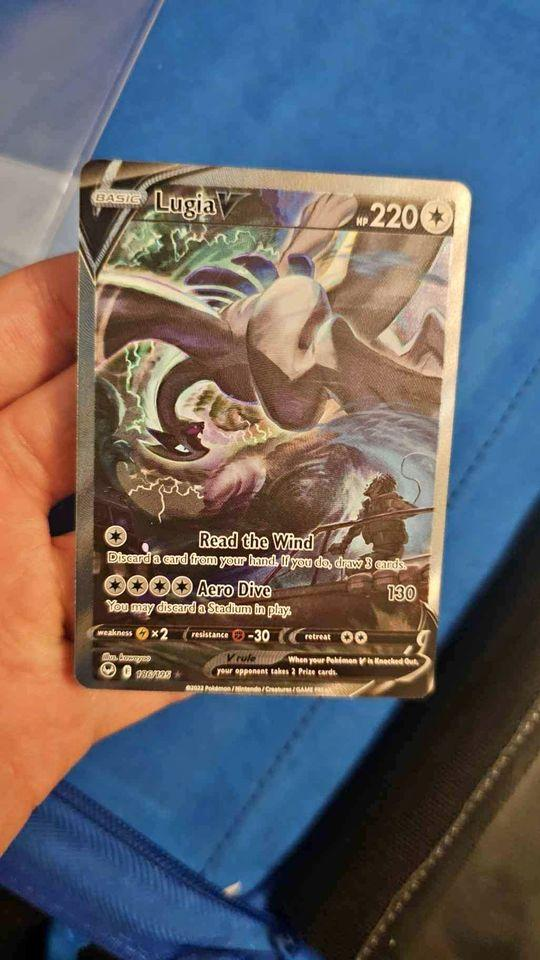card: (72, 158, 474, 700)
